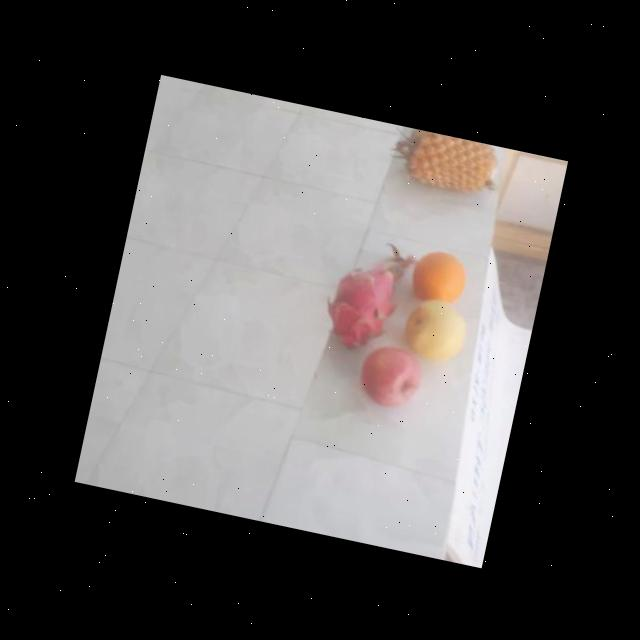apple: (356, 339, 428, 412)
pear: (394, 290, 474, 366)
pineapple: (396, 126, 502, 194)
pitaya: (320, 250, 414, 354)
